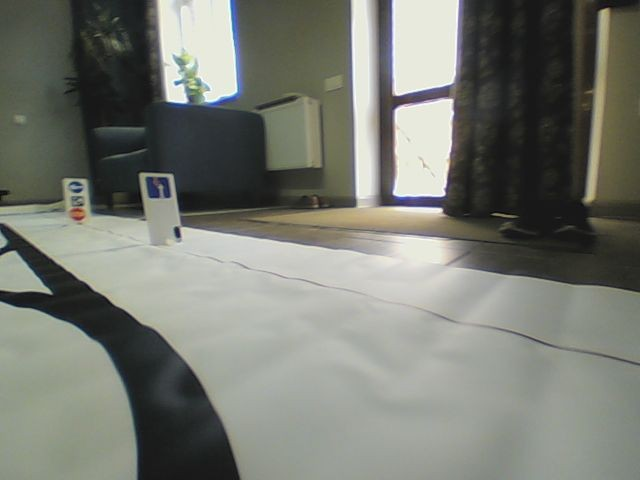priority_movement: (143, 174, 171, 200)
